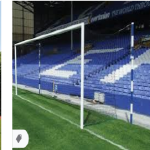goals: (14, 20, 118, 131)
